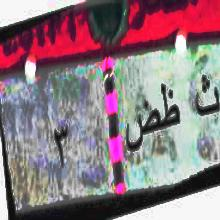3: (51, 108, 76, 182)
Thaa: (159, 75, 183, 138)
daad: (123, 98, 158, 161)
thaa: (191, 67, 220, 125)
